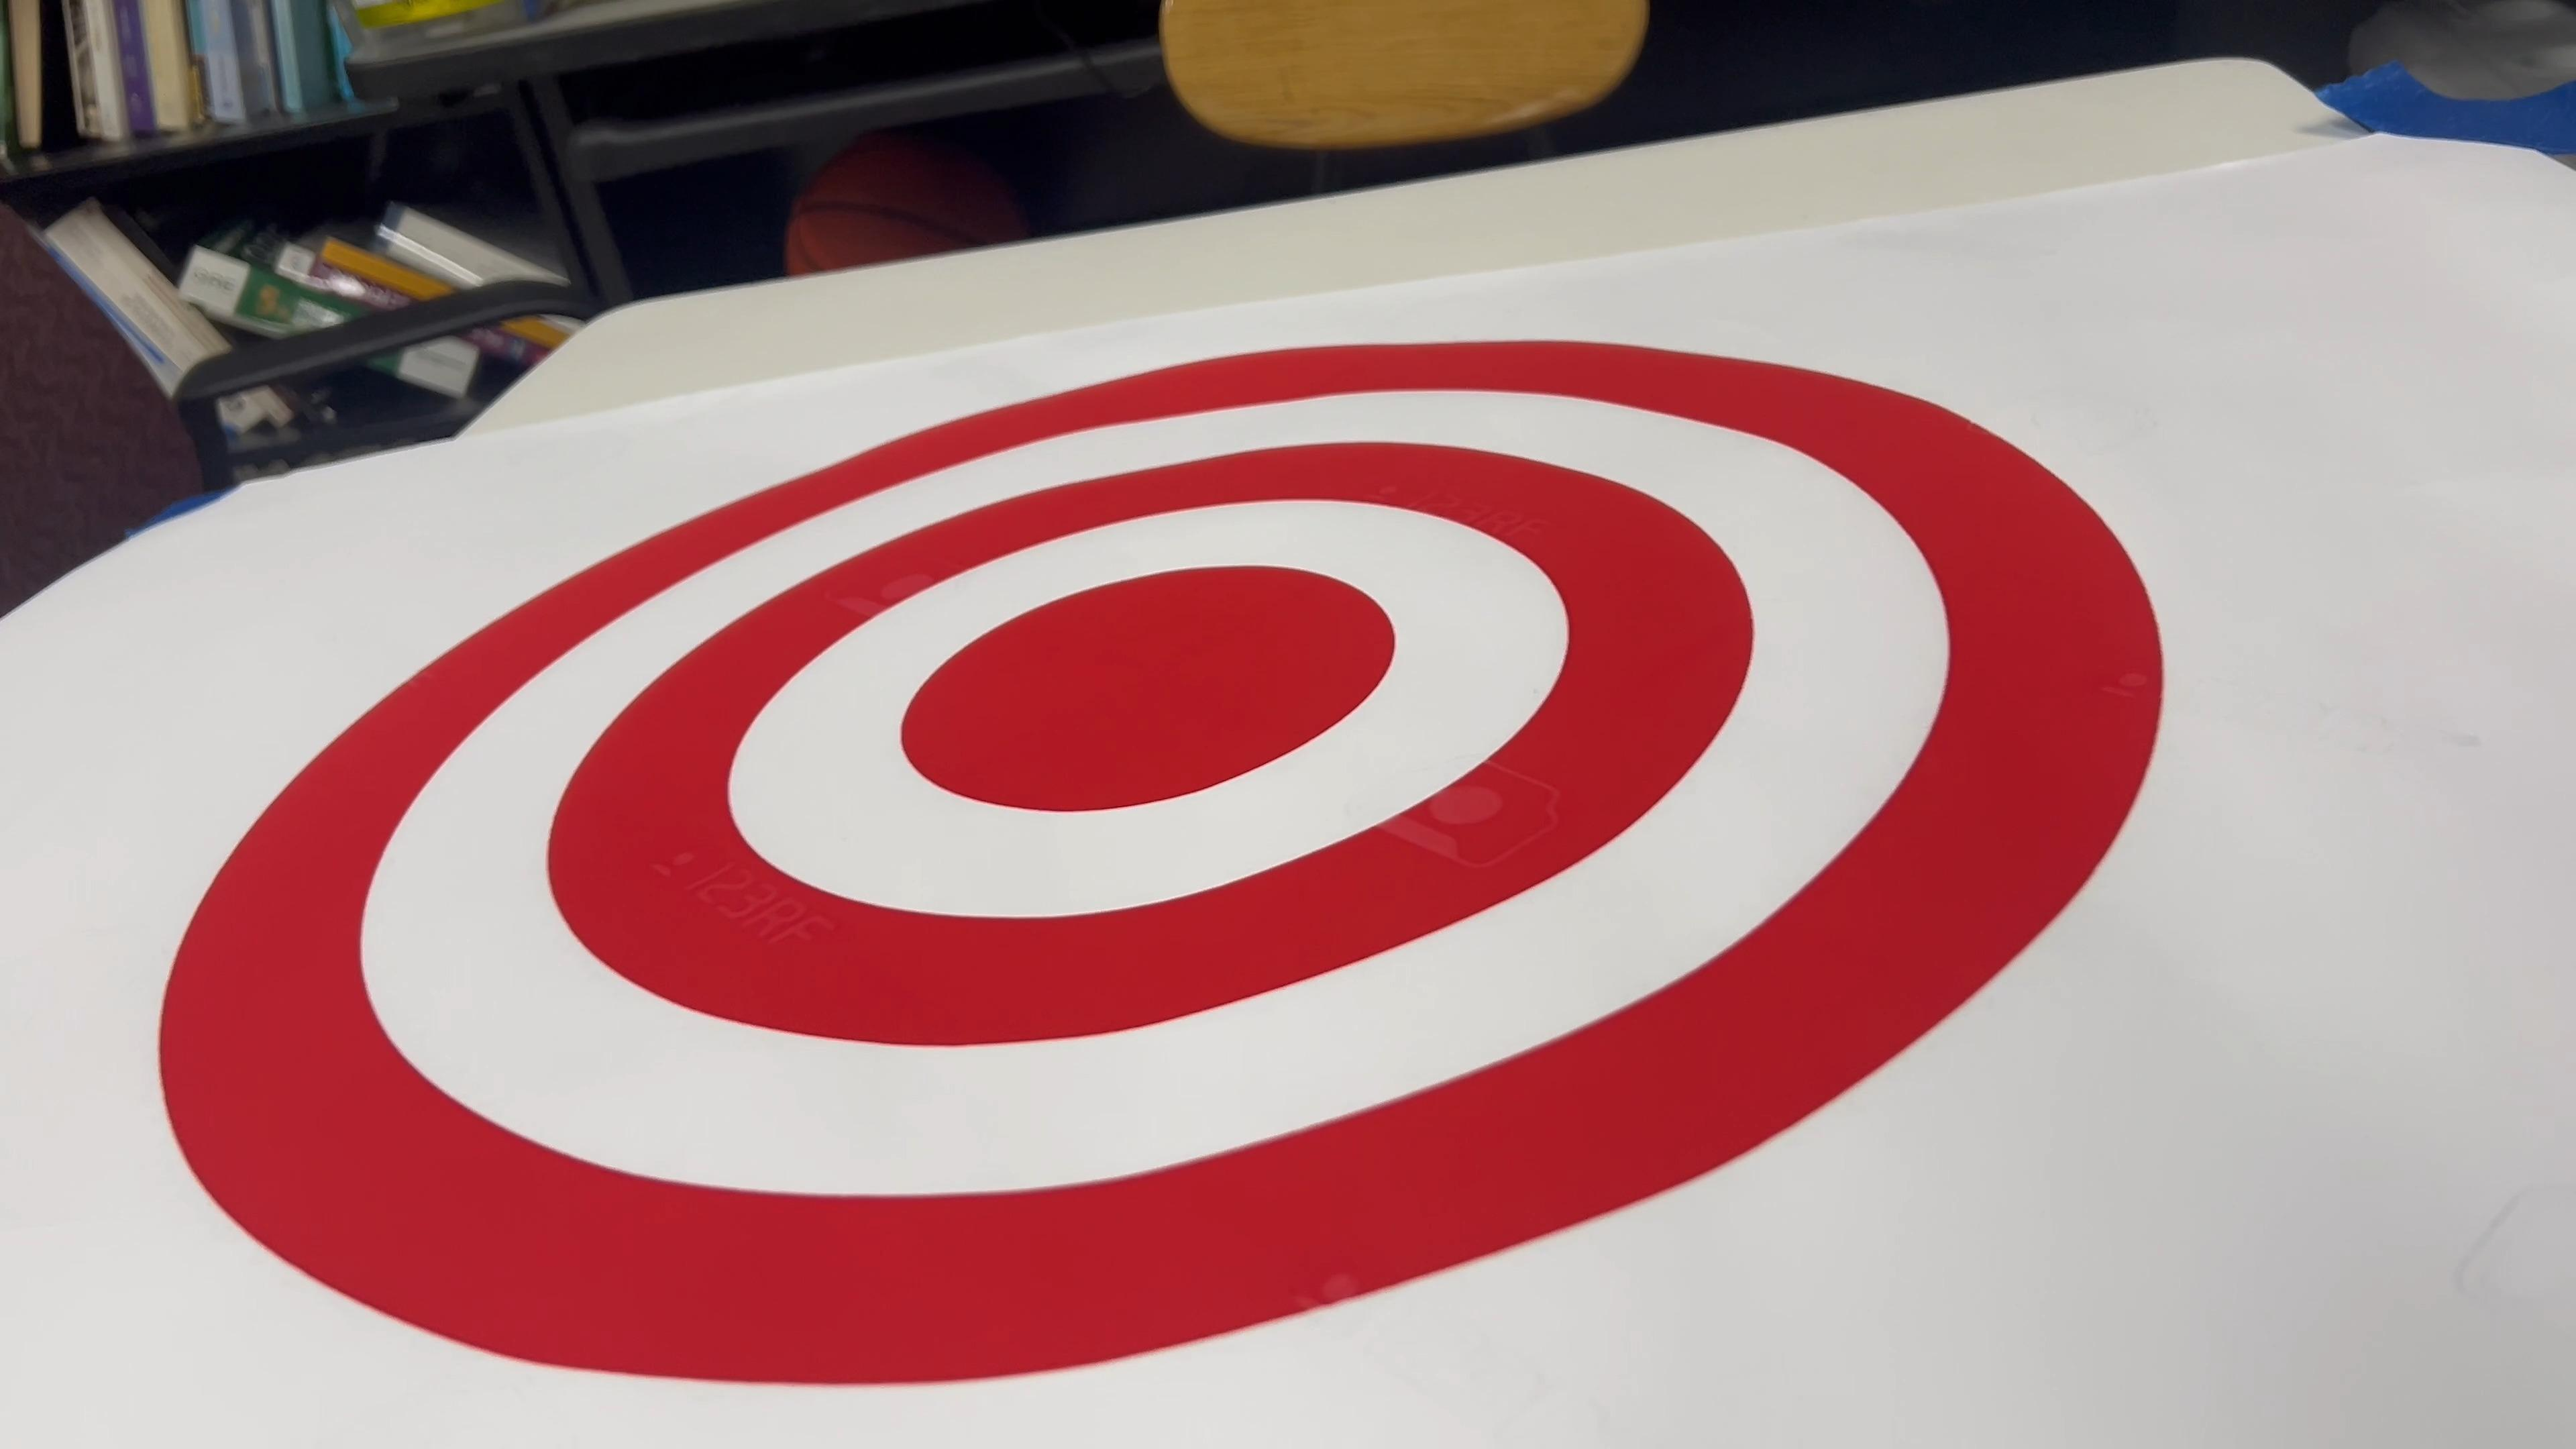target_red: (134, 329, 2173, 1431)
